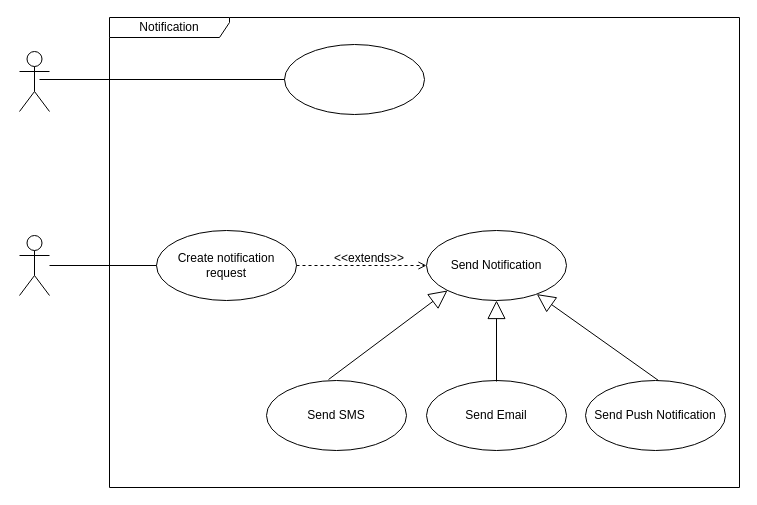
The diagram is 757 pixels wide and 505 high, and some of its shapes have lost their labels. The box of each missing label's shape, as (x1, y1, x2, y2) in pixels:
Admin: (18, 234, 50, 296)
Register for Notification: (284, 44, 424, 114)
User: (18, 50, 50, 112)
